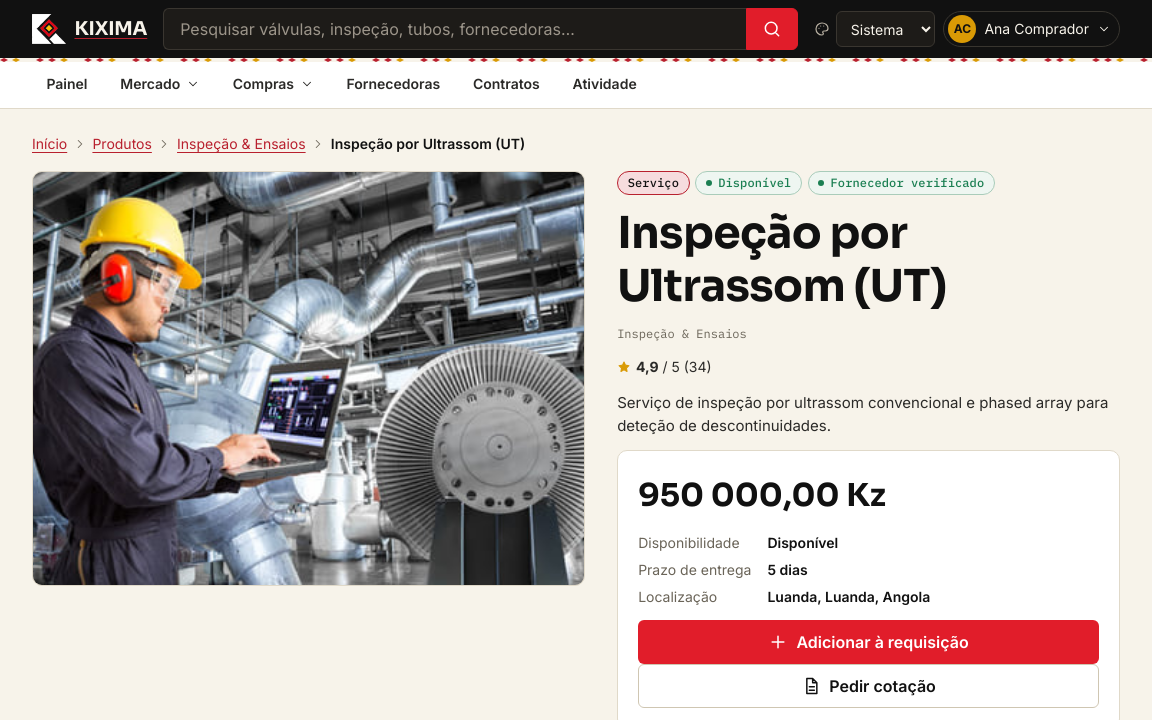
Test case: ficha do produto › pedir cotação: valida a quantidade, envia o payload certo e confirma só depois da resposta
The width and height of the screenshot is (1152, 720).
Click the button "Pedir cotação" at (869, 686), box [638,664,1099,708]
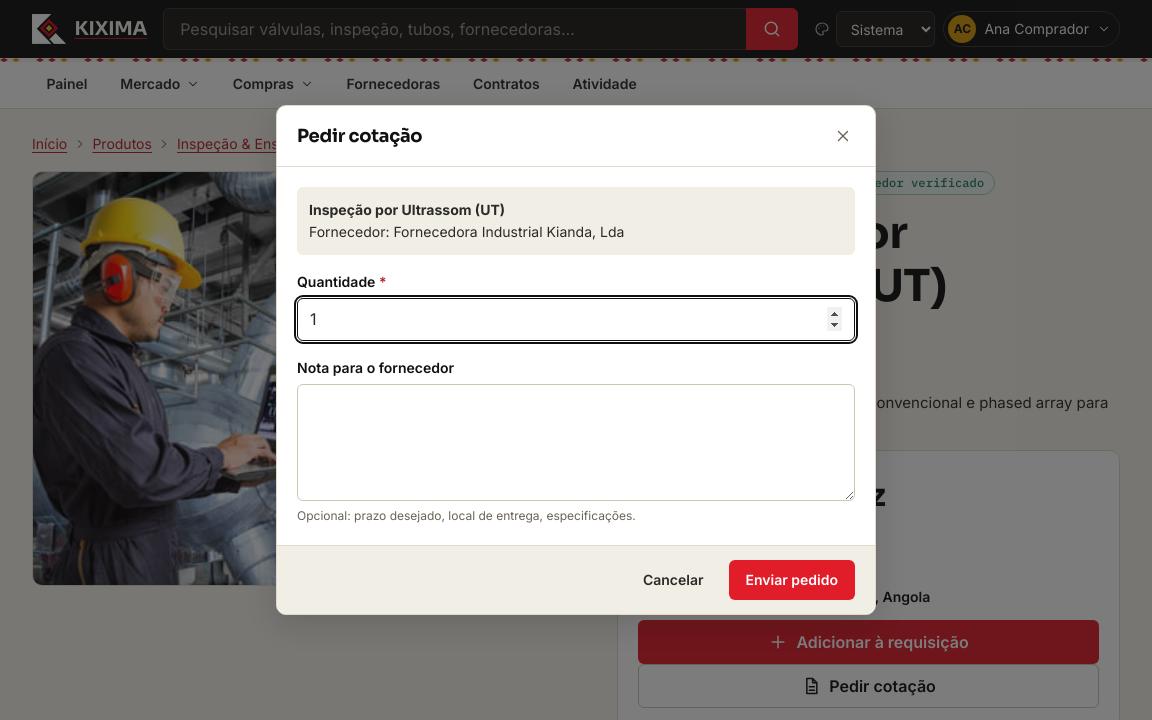
Replace the text in the number field labelled "Quantidade *" with "0" at (576, 319), box [297,298,855,341]
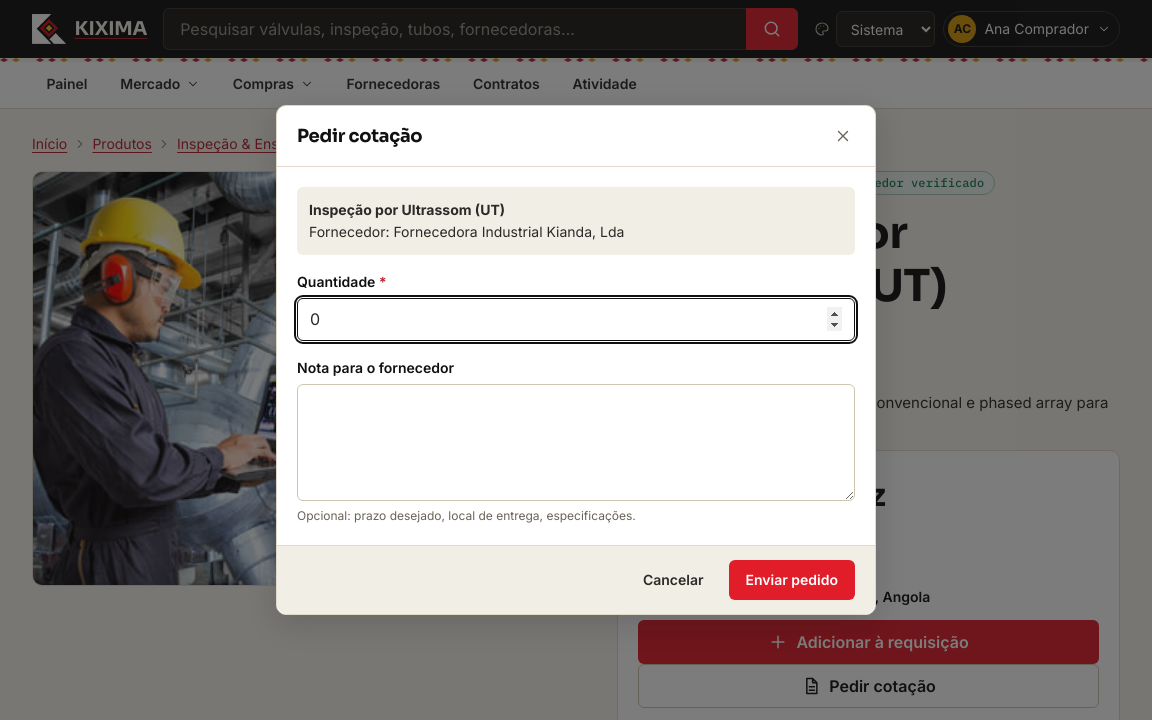
Click the button "Enviar pedido" at (792, 580), box [728,560,855,600]
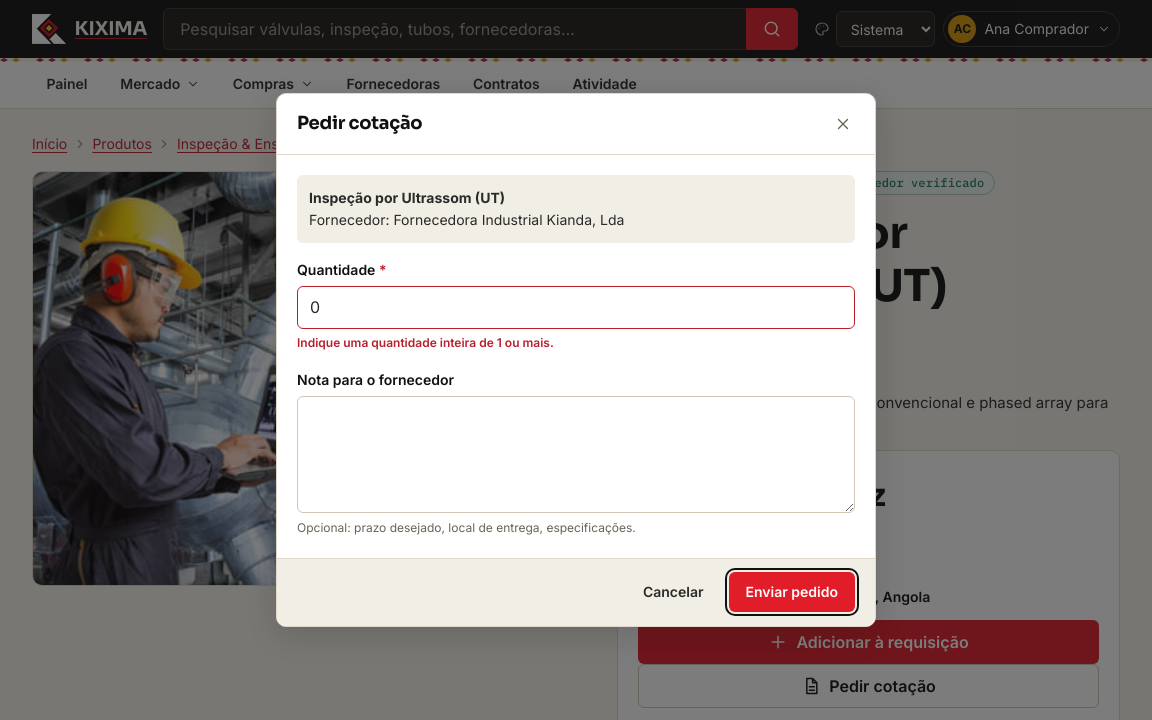
Now the text "Indique uma quantidade inteira de 1 ou mais." is shown, box [297,335,554,350]
Replace the text in the number field labelled "Quantidade *" with "3" at (576, 307), box [297,286,855,329]
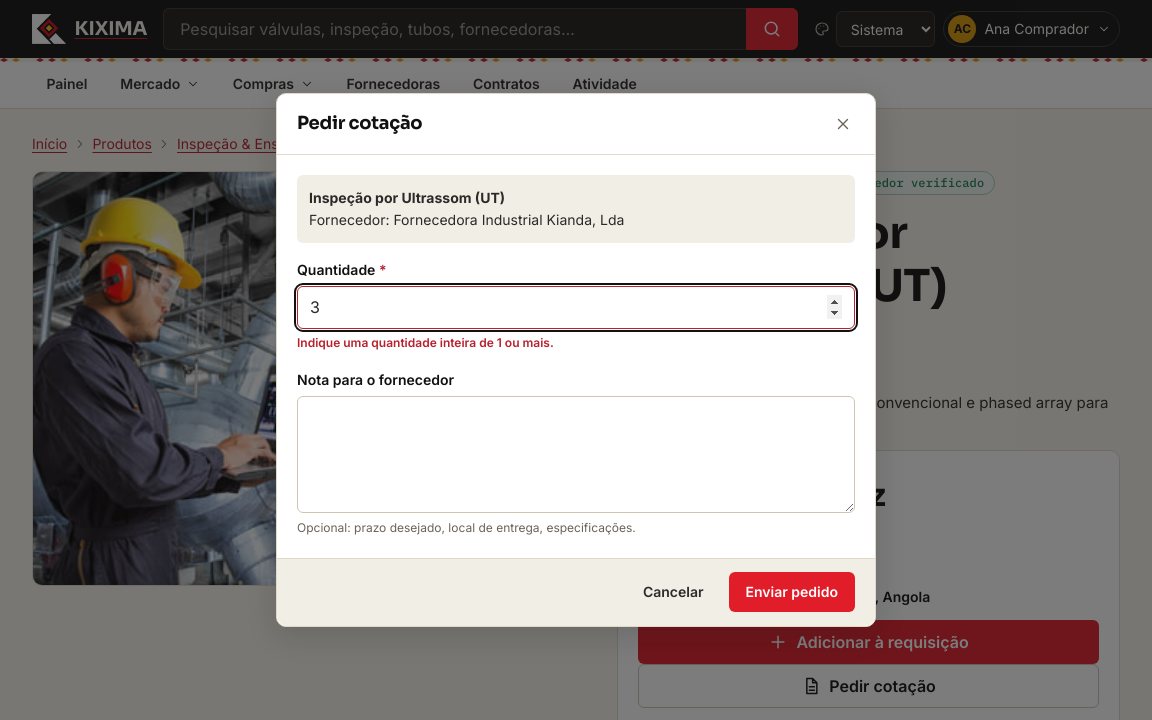
Type "Entrega no Soyo" into the text box labelled "Nota para o fornecedor" at (576, 455), box [297,396,855,513]
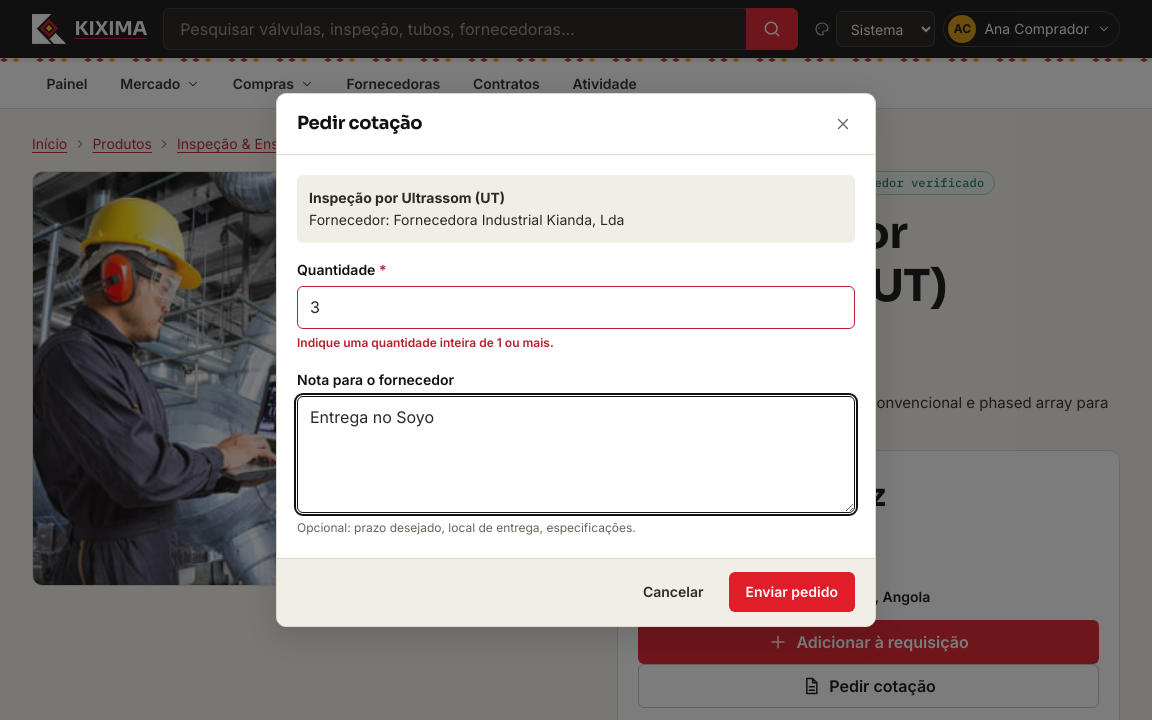
Click the button "Enviar pedido" at (792, 592), box [728,572,855,612]
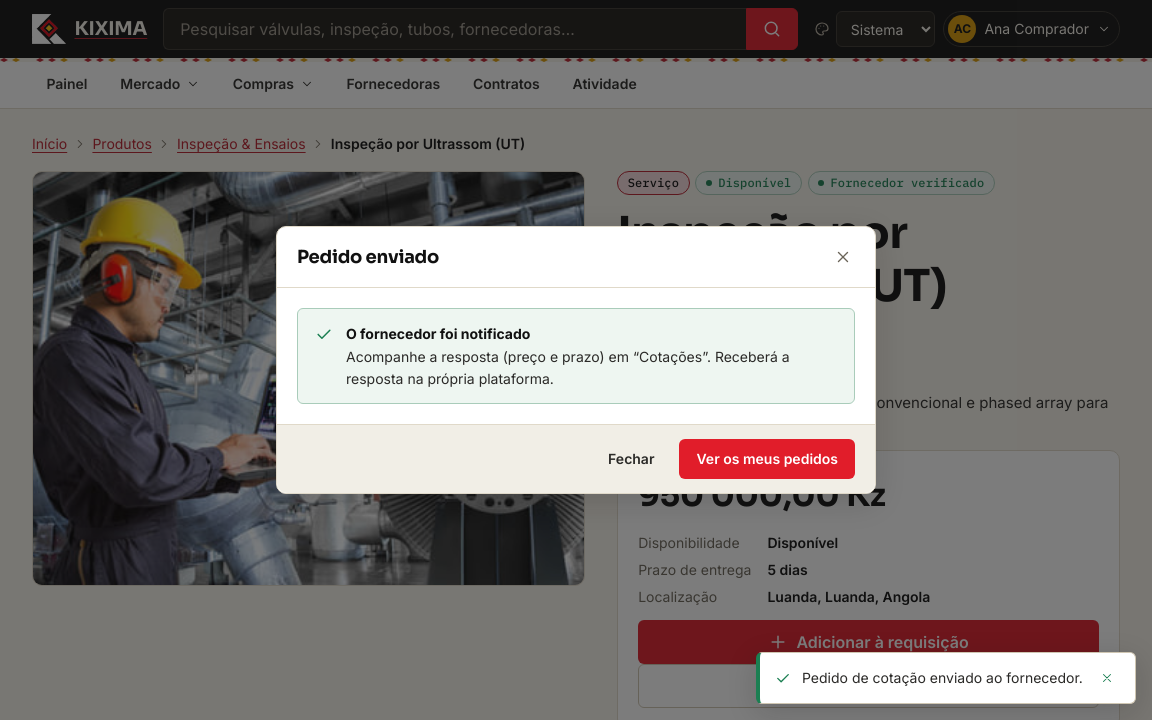
Now the dialog "Pedido enviado" is shown, box [276,226,876,494]
